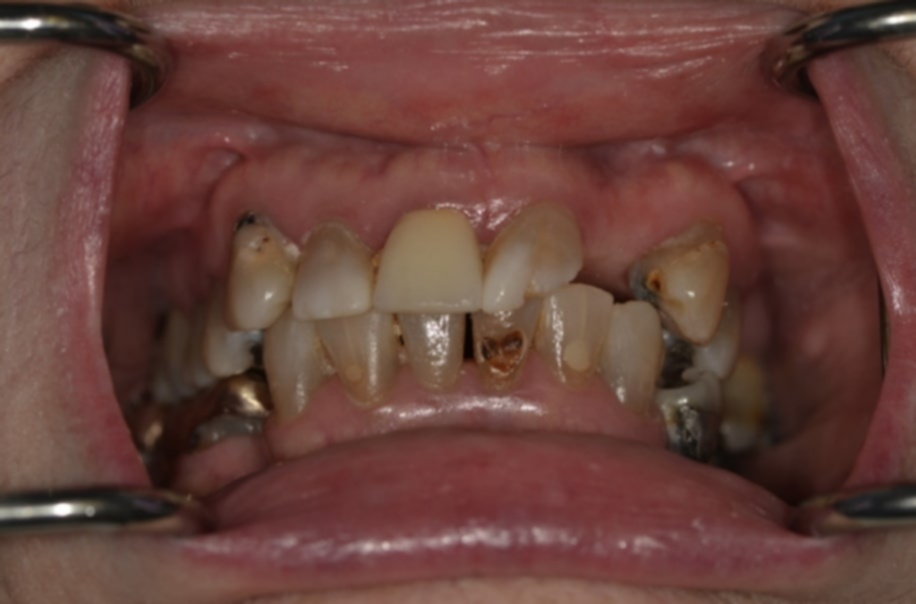karies: (475, 333, 535, 383), (665, 403, 715, 456), (235, 329, 282, 381), (230, 206, 277, 251), (635, 264, 671, 301), (311, 339, 339, 380)
